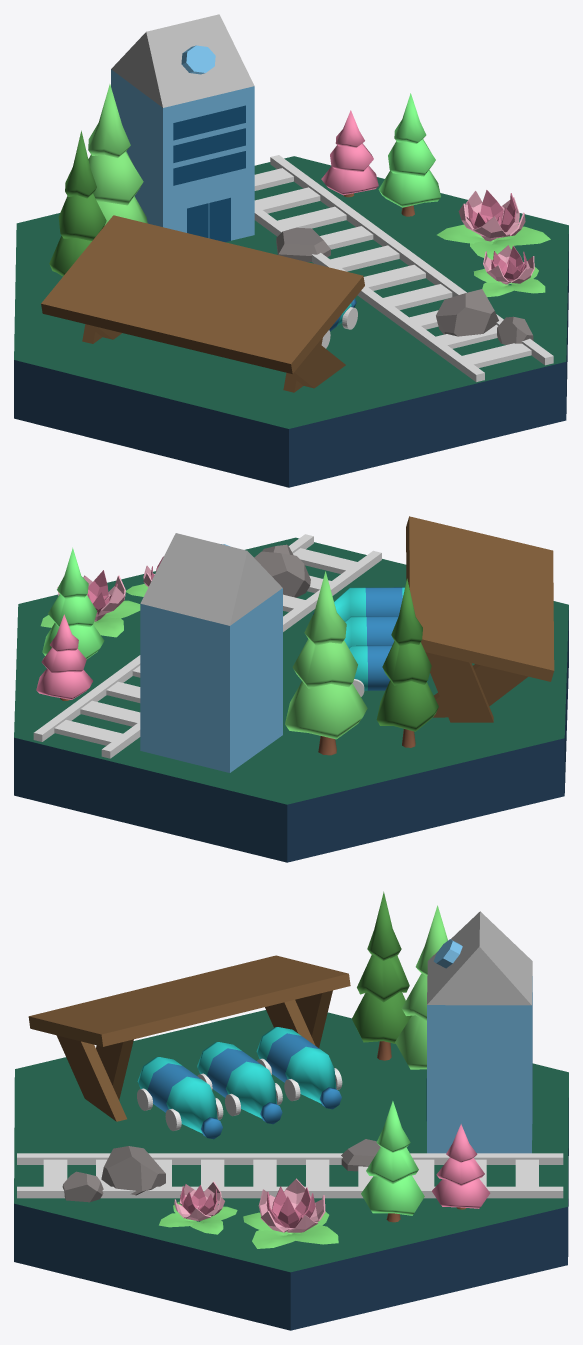
File: Macro - Transportation Hub lvl 1 WM3.fbx
3 renders of one model, top to bottom at view 1: azimuth 30°, elevation 25°; view 2: azimuth 150°, elevation 25°; view 3: azimuth 270°, elevation 25°, orthographic.
Visible parts, largest first — view 1: Cylinder.013, table.001, milkbox1.001, Tree_Spruce_tiny_01.008, Tree_Spruce_tiny_01.003, Tree_Spruce_tiny_01.007, Cube.011, Cube.012, Tree_Spruce_tiny_01.001, Rock Type2 04 mesh.002, Plane.012, Rock Type4 04 mesh.001 (+20 smaller); view 2: Cylinder.013, milkbox1.001, table.001, Tree_Spruce_tiny_01.008, Tree_Spruce_tiny_01.007, Tree_Spruce_tiny_01.003, Tree_Spruce_tiny_01.001, Cube.012, coke3.003, Cube.011, Rock Type2 04 mesh.002, coke3.004 (+8 smaller); view 3: Cylinder.013, milkbox1.001, table.001, Tree_Spruce_tiny_01.007, Tree_Spruce_tiny_01.003, Cube.011, Cube.012, coke3.004, coke3.003, coke3.005, Tree_Spruce_tiny_01.008, Tree_Spruce_tiny_01.001 (+14 smaller).
Part boxes in pixels (box(x1,y1,x2,y2)): Cylinder.013: box(14, 156, 568, 487); table.001: box(41, 215, 364, 392); milkbox1.001: box(111, 14, 254, 240); Tree_Spruce_tiny_01.008: box(88, 84, 147, 225); Tree_Spruce_tiny_01.003: box(378, 93, 440, 216); Tree_Spruce_tiny_01.007: box(49, 130, 106, 276); Cube.011: box(270, 155, 553, 365); Cube.012: box(254, 204, 484, 382); Tree_Spruce_tiny_01.001: box(321, 110, 378, 197); Rock Type2 04 mesh.002: box(436, 289, 498, 336); Plane.012: box(437, 224, 550, 259); Rock Type4 04 mesh.001: box(276, 227, 330, 261); Cylinder.013: box(14, 537, 568, 862); milkbox1.001: box(140, 533, 282, 772); table.001: box(406, 516, 554, 722); Tree_Spruce_tiny_01.008: box(285, 571, 367, 755); Tree_Spruce_tiny_01.007: box(376, 578, 438, 747); Tree_Spruce_tiny_01.003: box(42, 547, 104, 659); Tree_Spruce_tiny_01.001: box(36, 614, 92, 700); Cube.012: box(101, 550, 381, 758); coke3.003: box(313, 587, 404, 621); Cube.011: box(33, 534, 313, 741); Rock Type2 04 mesh.002: box(254, 551, 310, 597); coke3.004: box(344, 616, 398, 647); Cylinder.013: box(14, 1010, 568, 1330); milkbox1.001: box(427, 911, 532, 1153); table.001: box(28, 955, 350, 1121); Tree_Spruce_tiny_01.007: box(352, 891, 411, 1060); Tree_Spruce_tiny_01.003: box(361, 1101, 424, 1222); Cube.011: box(17, 1186, 563, 1198); Cube.012: box(17, 1153, 563, 1164); coke3.004: box(197, 1042, 282, 1124); coke3.003: box(137, 1057, 222, 1139); coke3.005: box(256, 1027, 341, 1109); Tree_Spruce_tiny_01.008: box(395, 905, 447, 1069); Tree_Spruce_tiny_01.001: box(432, 1124, 490, 1209).
Bounding box in the file's own units: 197 × 89.35 × 172.
